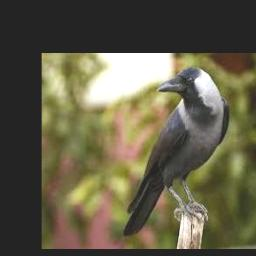Crow: (122, 66, 229, 236)
